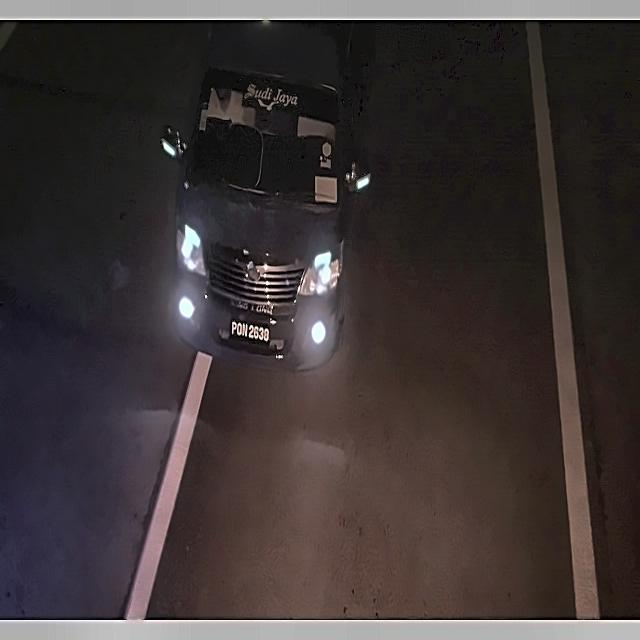car: (224, 312, 276, 353)
